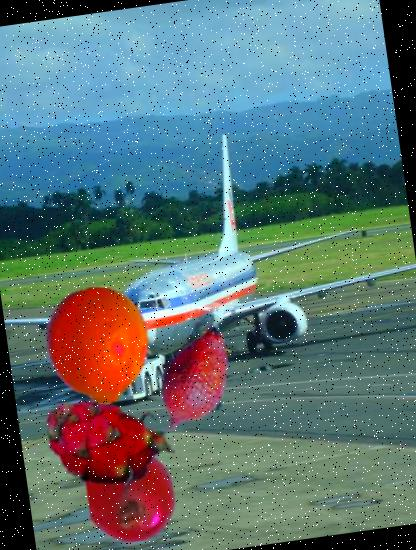Pitahaya: (33, 367, 184, 518)
Redcurrant: (79, 444, 184, 549)
Salak: (130, 316, 259, 444)
Tangelo: (32, 280, 164, 412)
